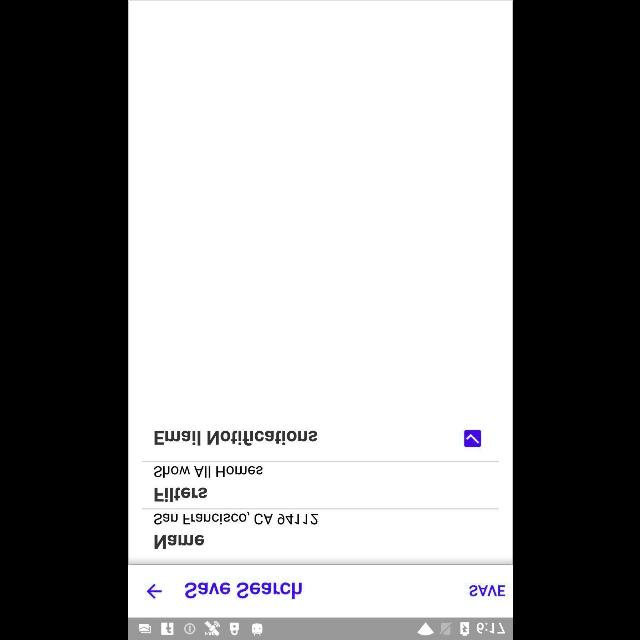checkbox: (464, 430, 481, 448)
icon: (145, 584, 161, 598)
text: (154, 430, 316, 446), (185, 582, 302, 600), (153, 512, 317, 524), (154, 465, 262, 477), (154, 487, 206, 503), (153, 535, 203, 549), (469, 584, 505, 596)
uppertaskbar: (128, 617, 512, 639)
